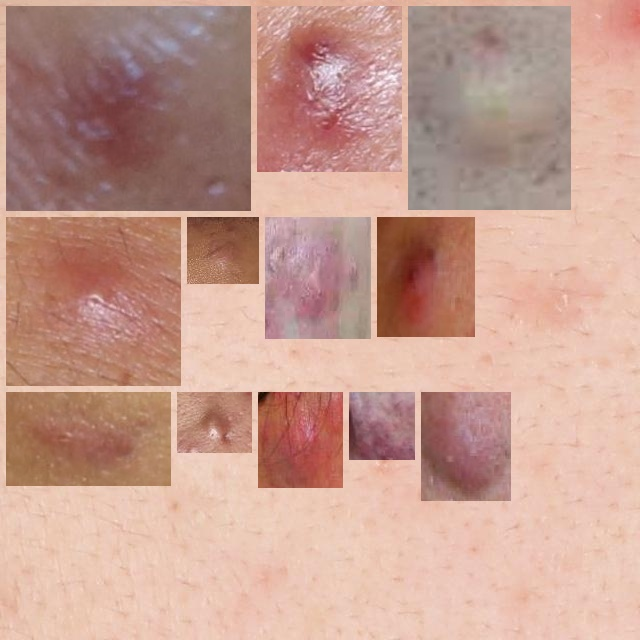nodule: (14, 14, 243, 203), (416, 14, 563, 202), (14, 225, 173, 378), (265, 14, 394, 164), (14, 400, 163, 478), (273, 225, 363, 331), (385, 225, 467, 329), (429, 400, 503, 493), (266, 400, 335, 480), (195, 225, 251, 276), (185, 400, 244, 445), (357, 400, 407, 452)
